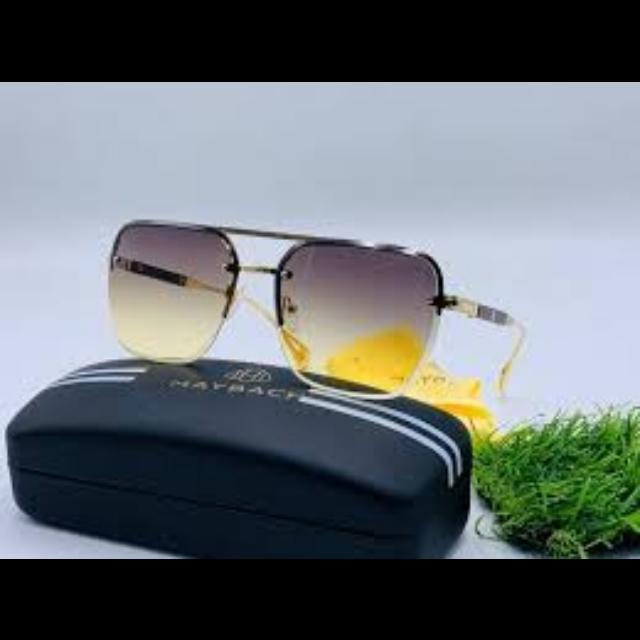sunglasses: (90, 196, 548, 404)
